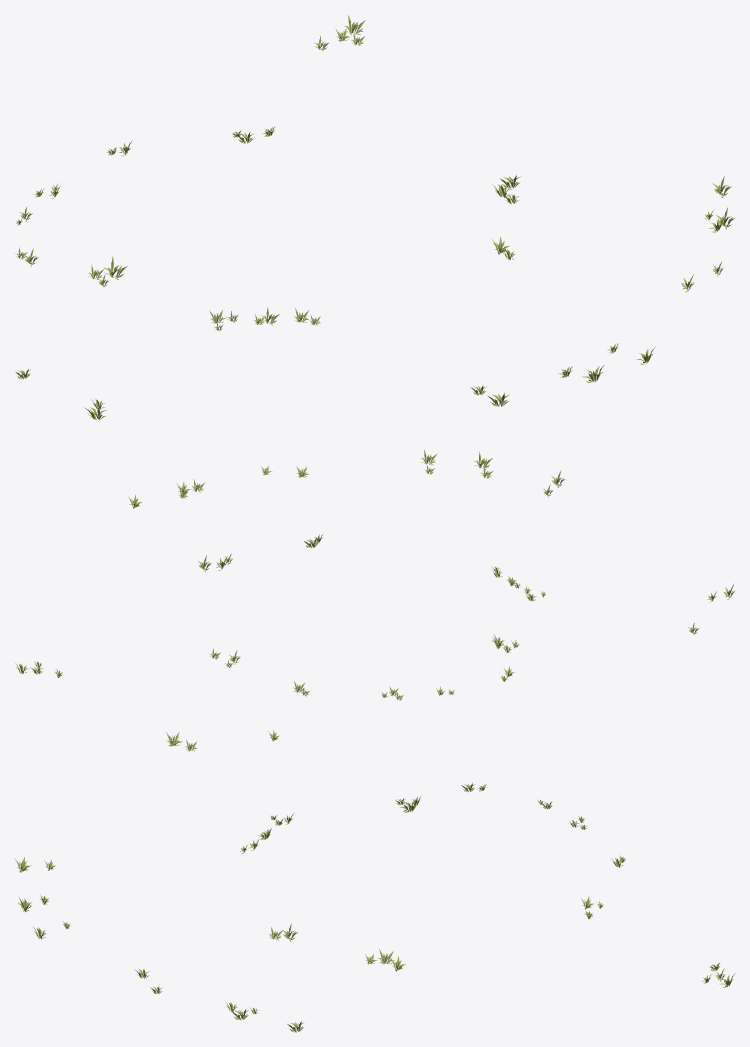
Rendered from area_09_1.FBX.
3 renders of one model, top to bottom at view 1: azimuth 30°, elevation 25°; view 2: azimuth 150°, elevation 25°; view 3: azimuth 270°, elevation 25°, orthographic. The views are drawn at different scales.
Visible parts, largest first — view 1: area_09_1; view 2: area_09_1; view 3: area_09_1.
Part boxes in pixels (x1,y1,x2,y2): area_09_1: (15, 15, 734, 419); area_09_1: (15, 449, 734, 700); area_09_1: (14, 729, 735, 1032).
Bounding box in the file's own units: 41.64 × 1.23 × 42.67.
